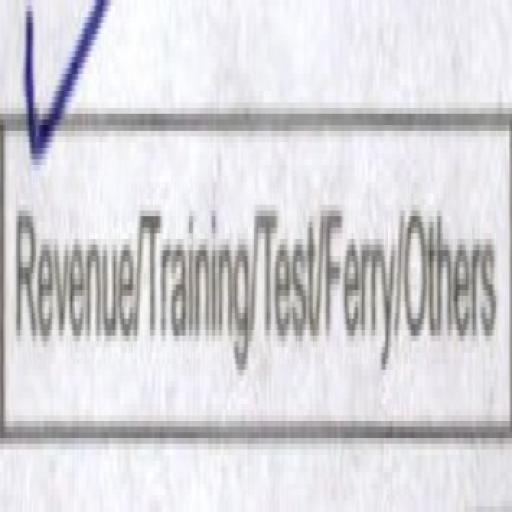check: (0, 0, 140, 463)
